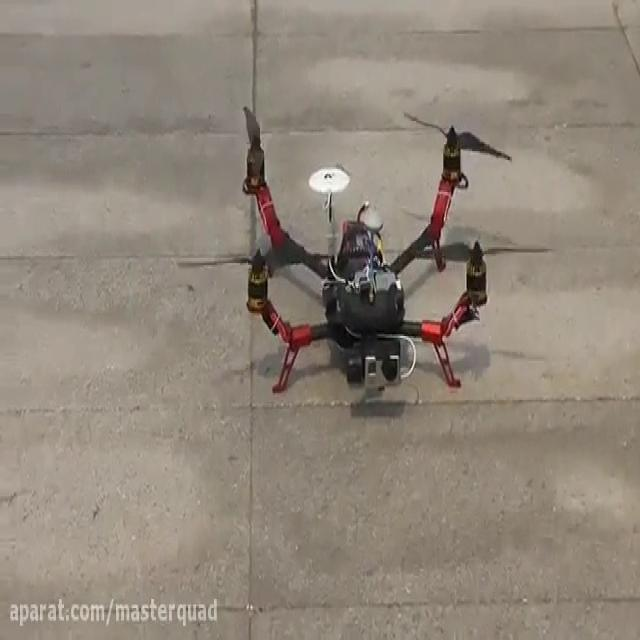drone: (175, 103, 554, 400)
